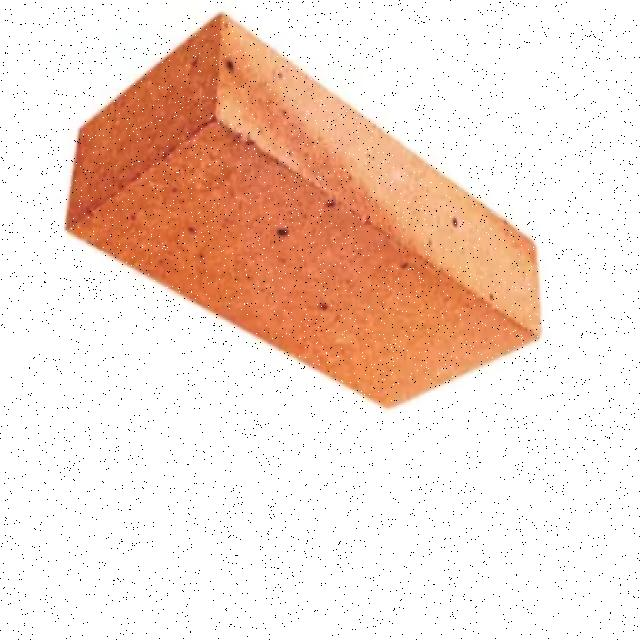bricks: (66, 12, 543, 411)
